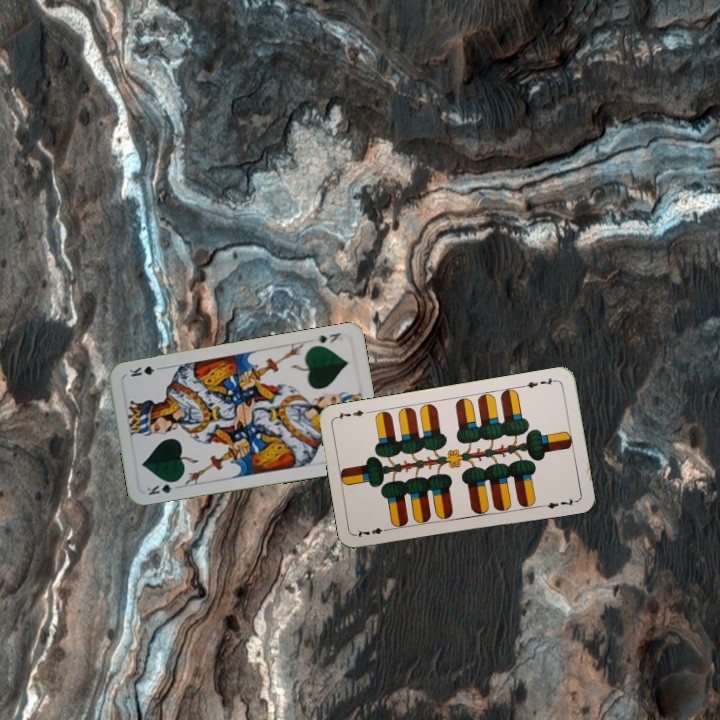E7: (519, 374, 559, 391), (352, 524, 393, 540)
GK: (143, 477, 181, 498), (312, 329, 343, 346)
